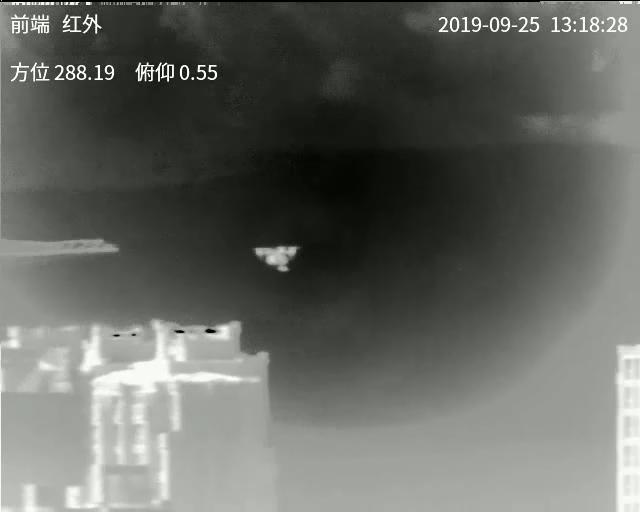uav: (254, 244, 298, 274)
